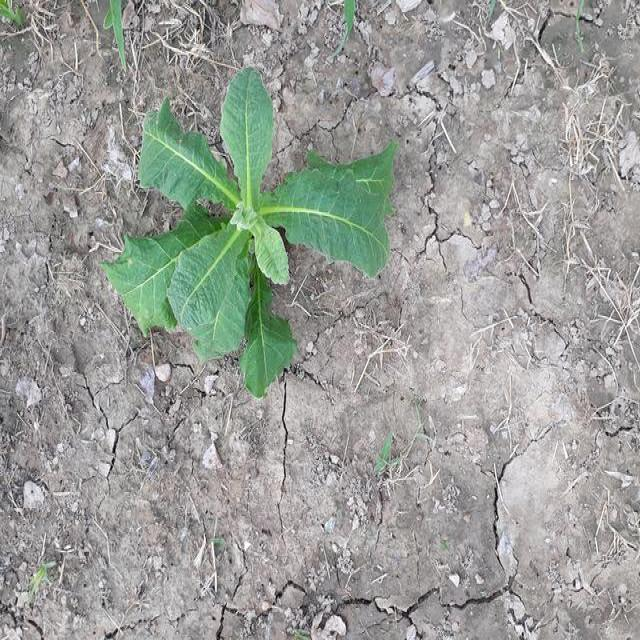crop: (110, 71, 397, 366)
